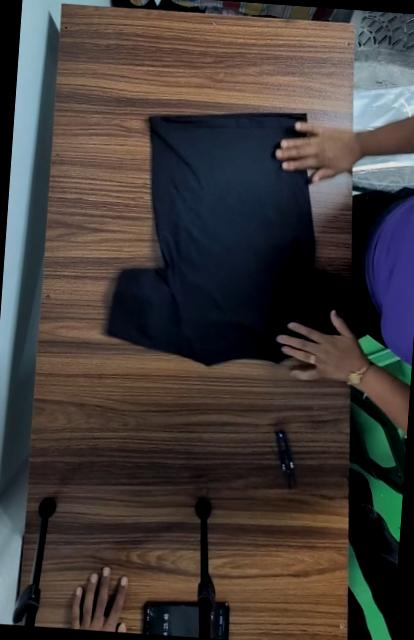new-garment: (107, 114, 362, 364)
